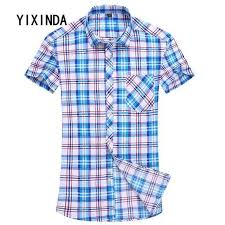squared: (20, 5, 196, 224)
